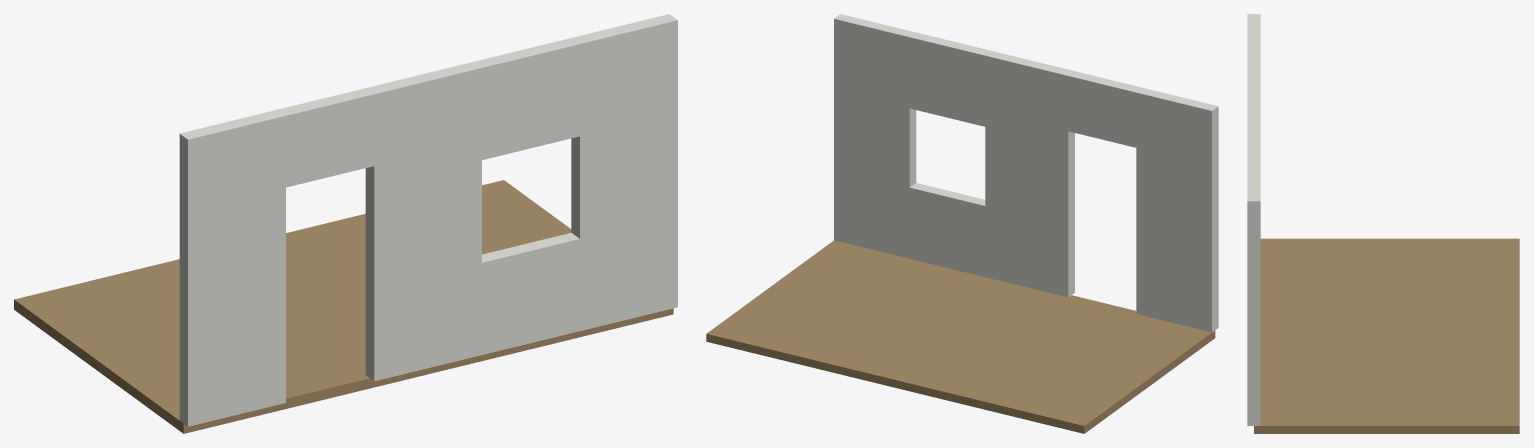
3 views of the same model, side by side, from view 1: azimuth 30°, elevation 25°; view 2: azimuth 150°, elevation 25°; view 3: azimuth 270°, elevation 25° (orthographic). The views are drawn at different scales.
Visible parts, largest first — view 1: 地板, 測試牆_區段_3.1, 測試牆_區段_1.1, 測試牆_區段_5.1, 測試牆_區段_4.2, 測試牆_區段_4.1, 測試牆_區段_2.1; view 2: 地板, 測試牆_區段_3.1, 測試牆_區段_1.1, 測試牆_區段_5.1, 測試牆_區段_4.2, 測試牆_區段_4.1, 測試牆_區段_2.1; view 3: 地板, 測試牆_區段_5.1, 測試牆_區段_3.1, 測試牆_區段_1.1, 測試牆_區段_4.2, 測試牆_區段_2.1.
Part boxes in pixels (left/top/right/bottom): 地板: left=14, top=180, right=673, bottom=433; 測試牆_區段_3.1: left=365, top=62, right=481, bottom=381; 測試牆_區段_1.1: left=179, top=109, right=285, bottom=426; 測試牆_區段_5.1: left=571, top=14, right=677, bottom=330; 測試牆_區段_4.2: left=474, top=38, right=579, bottom=160; 測試牆_區段_4.1: left=482, top=232, right=579, bottom=354; 測試牆_區段_2.1: left=278, top=88, right=374, bottom=187; 地板: left=706, top=240, right=1215, bottom=433; 測試牆_區段_3.1: left=985, top=51, right=1074, bottom=297; 測試牆_區段_1.1: left=1136, top=88, right=1218, bottom=332; 測試牆_區段_5.1: left=834, top=14, right=916, bottom=258; 測試牆_區段_4.2: left=909, top=32, right=991, bottom=126; 測試牆_區段_4.1: left=909, top=183, right=985, bottom=276; 測試牆_區段_2.1: left=1068, top=71, right=1142, bottom=147; 地板: left=1254, top=238, right=1519, bottom=433; 測試牆_區段_5.1: left=1247, top=163, right=1260, bottom=425; 測試牆_區段_3.1: left=1247, top=85, right=1260, bottom=126; 測試牆_區段_1.1: left=1247, top=14, right=1260, bottom=51; 測試牆_區段_4.2: left=1247, top=126, right=1260, bottom=163; 測試牆_區段_2.1: left=1247, top=51, right=1260, bottom=84.
Bounding box in the file's own units: 5000 × 3075 × 2900.
